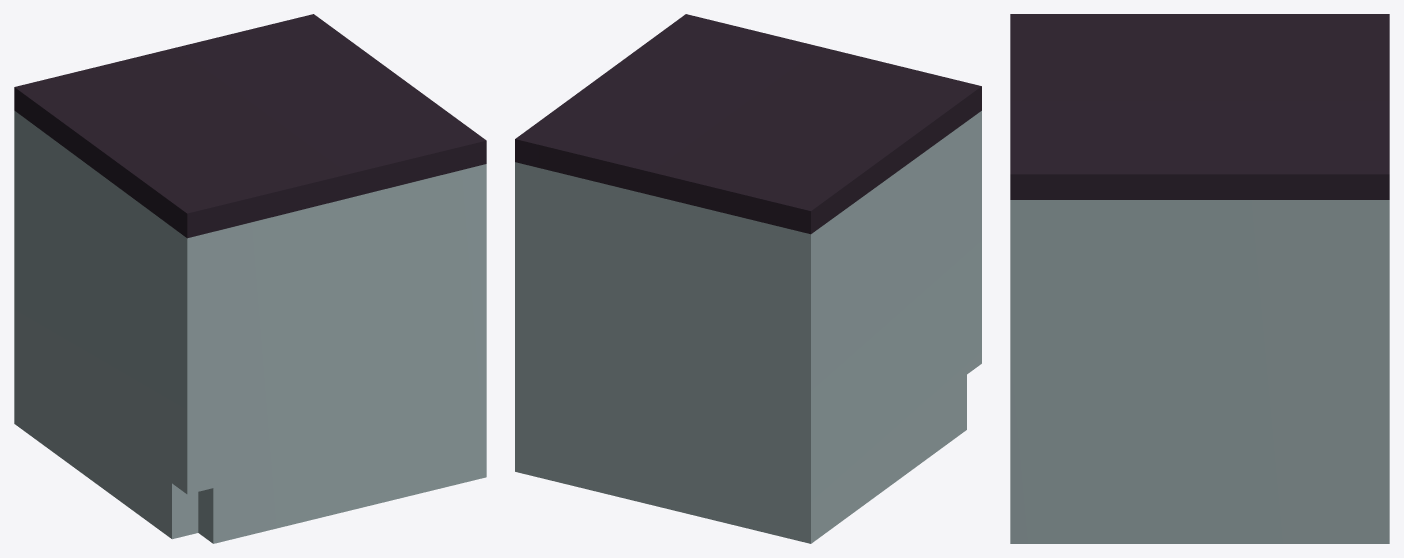
The model's file is Counter_Corner.fbx.
3 renders of one model, left to right at view 1: azimuth 30°, elevation 25°; view 2: azimuth 150°, elevation 25°; view 3: azimuth 270°, elevation 25°, orthographic. The views are drawn at different scales.
Parts seen in each view (by area): view 1: Counter.Corner; view 2: Counter.Corner; view 3: Counter.Corner.
Part boxes in pixels (x1,y1,x2,y2): Counter.Corner: (14,14,486,543); Counter.Corner: (515,14,981,543); Counter.Corner: (1010,14,1389,543).
Bounding box in the file's own units: 300 × 322 × 300.
